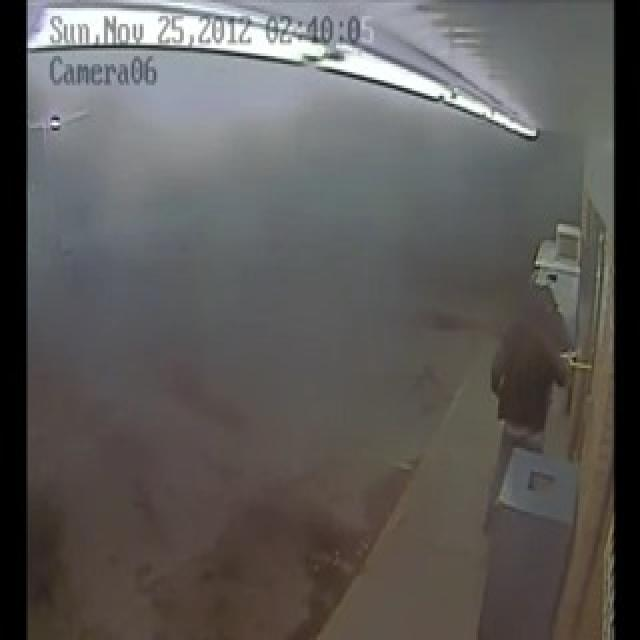burglary: (512, 271, 606, 501)
